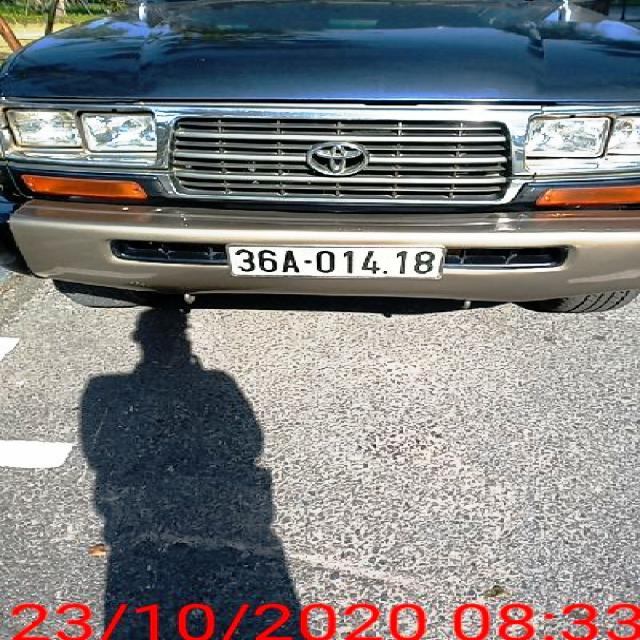license_plate: (228, 245, 448, 280)
